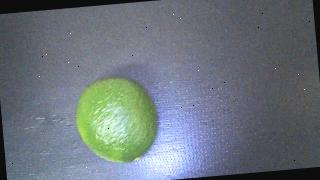EXPORTACION: (73, 72, 161, 166)
